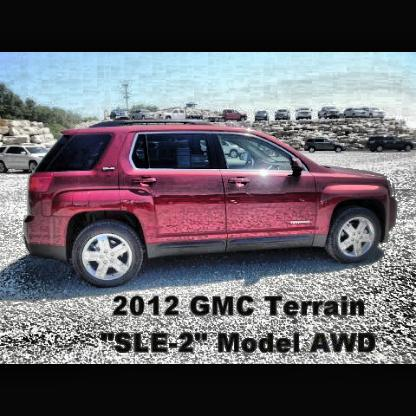GMC Terrain SUV 2012: (25, 120, 400, 291)
